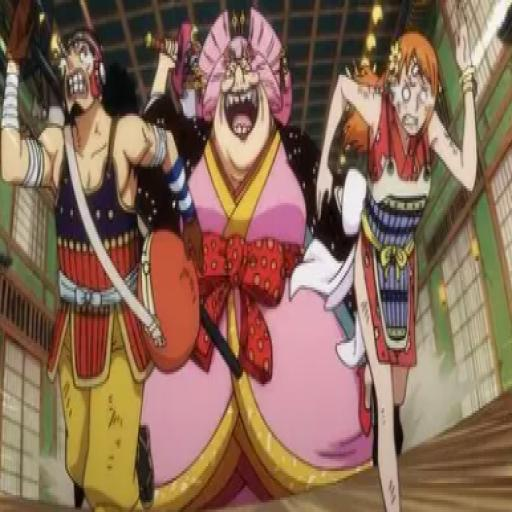Nami: (307, 0, 485, 512)
Usopp: (1, 13, 205, 512)
